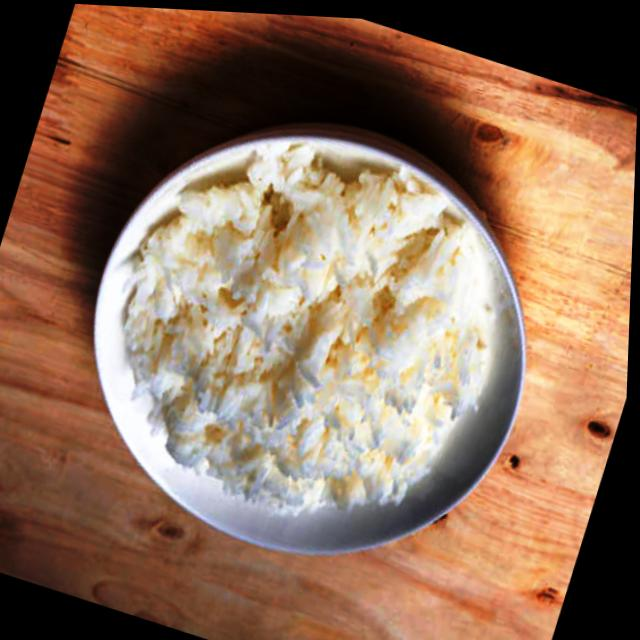rice: (59, 91, 543, 568)
